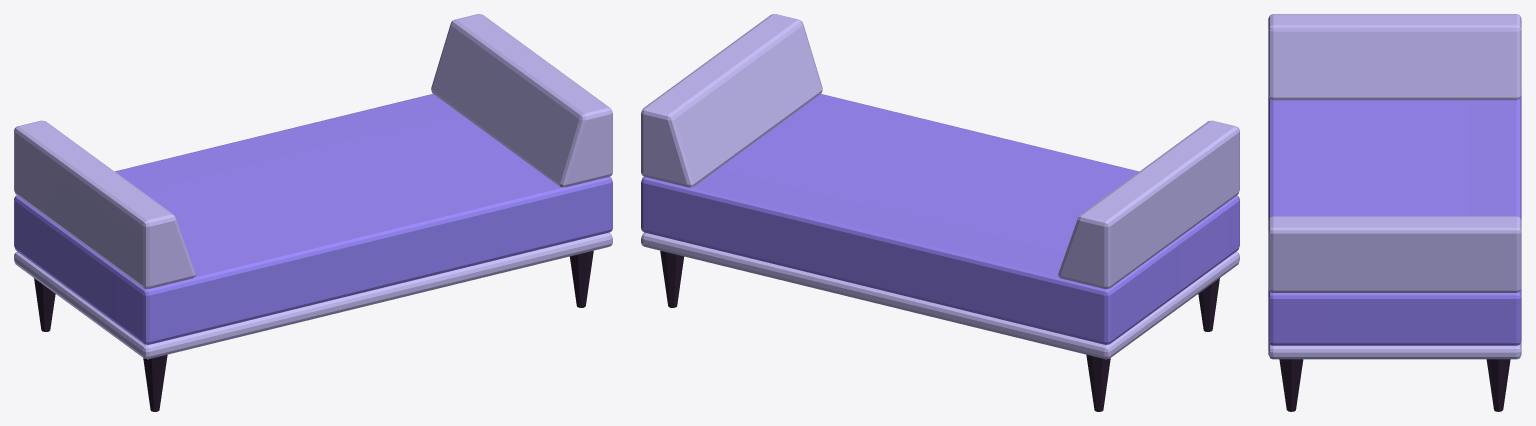
File: sofa5.glb
The picture shows the model from 3 angles, left to right: view 1: azimuth 30°, elevation 25°; view 2: azimuth 150°, elevation 25°; view 3: azimuth 270°, elevation 25°; orthographic projection. The views are drawn at different scales.
Size of the model in its own units: 1.63 by 0.6655 by 0.8007.
1 material, 1 textured.
